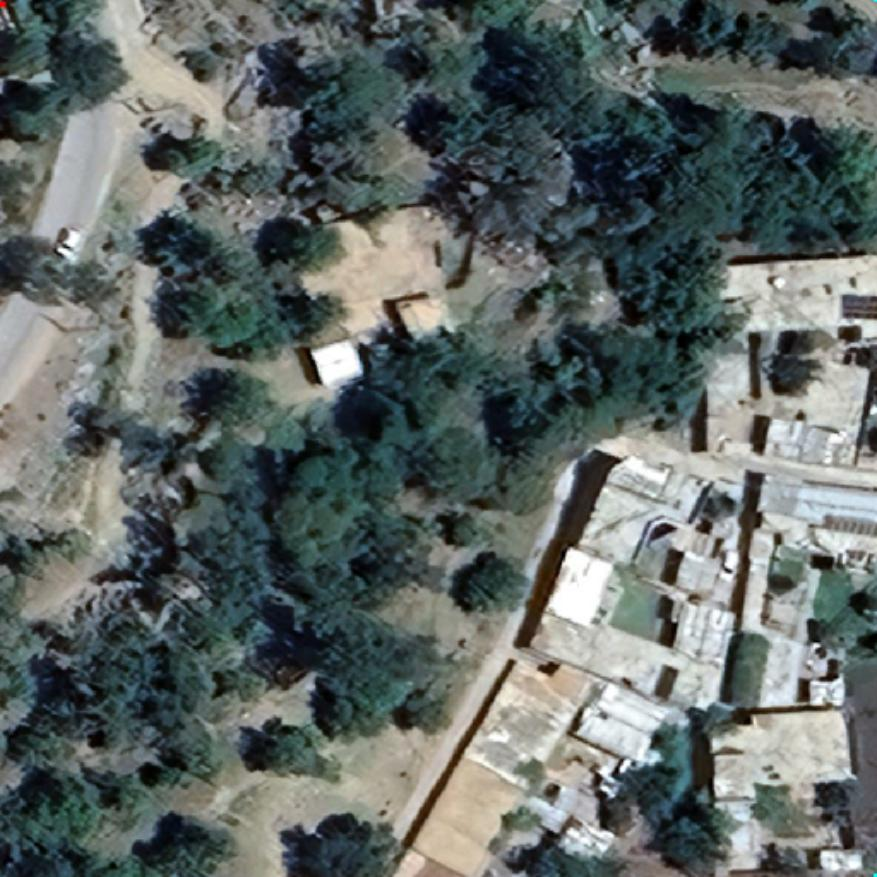Solarpanel: (839, 294, 876, 320)
